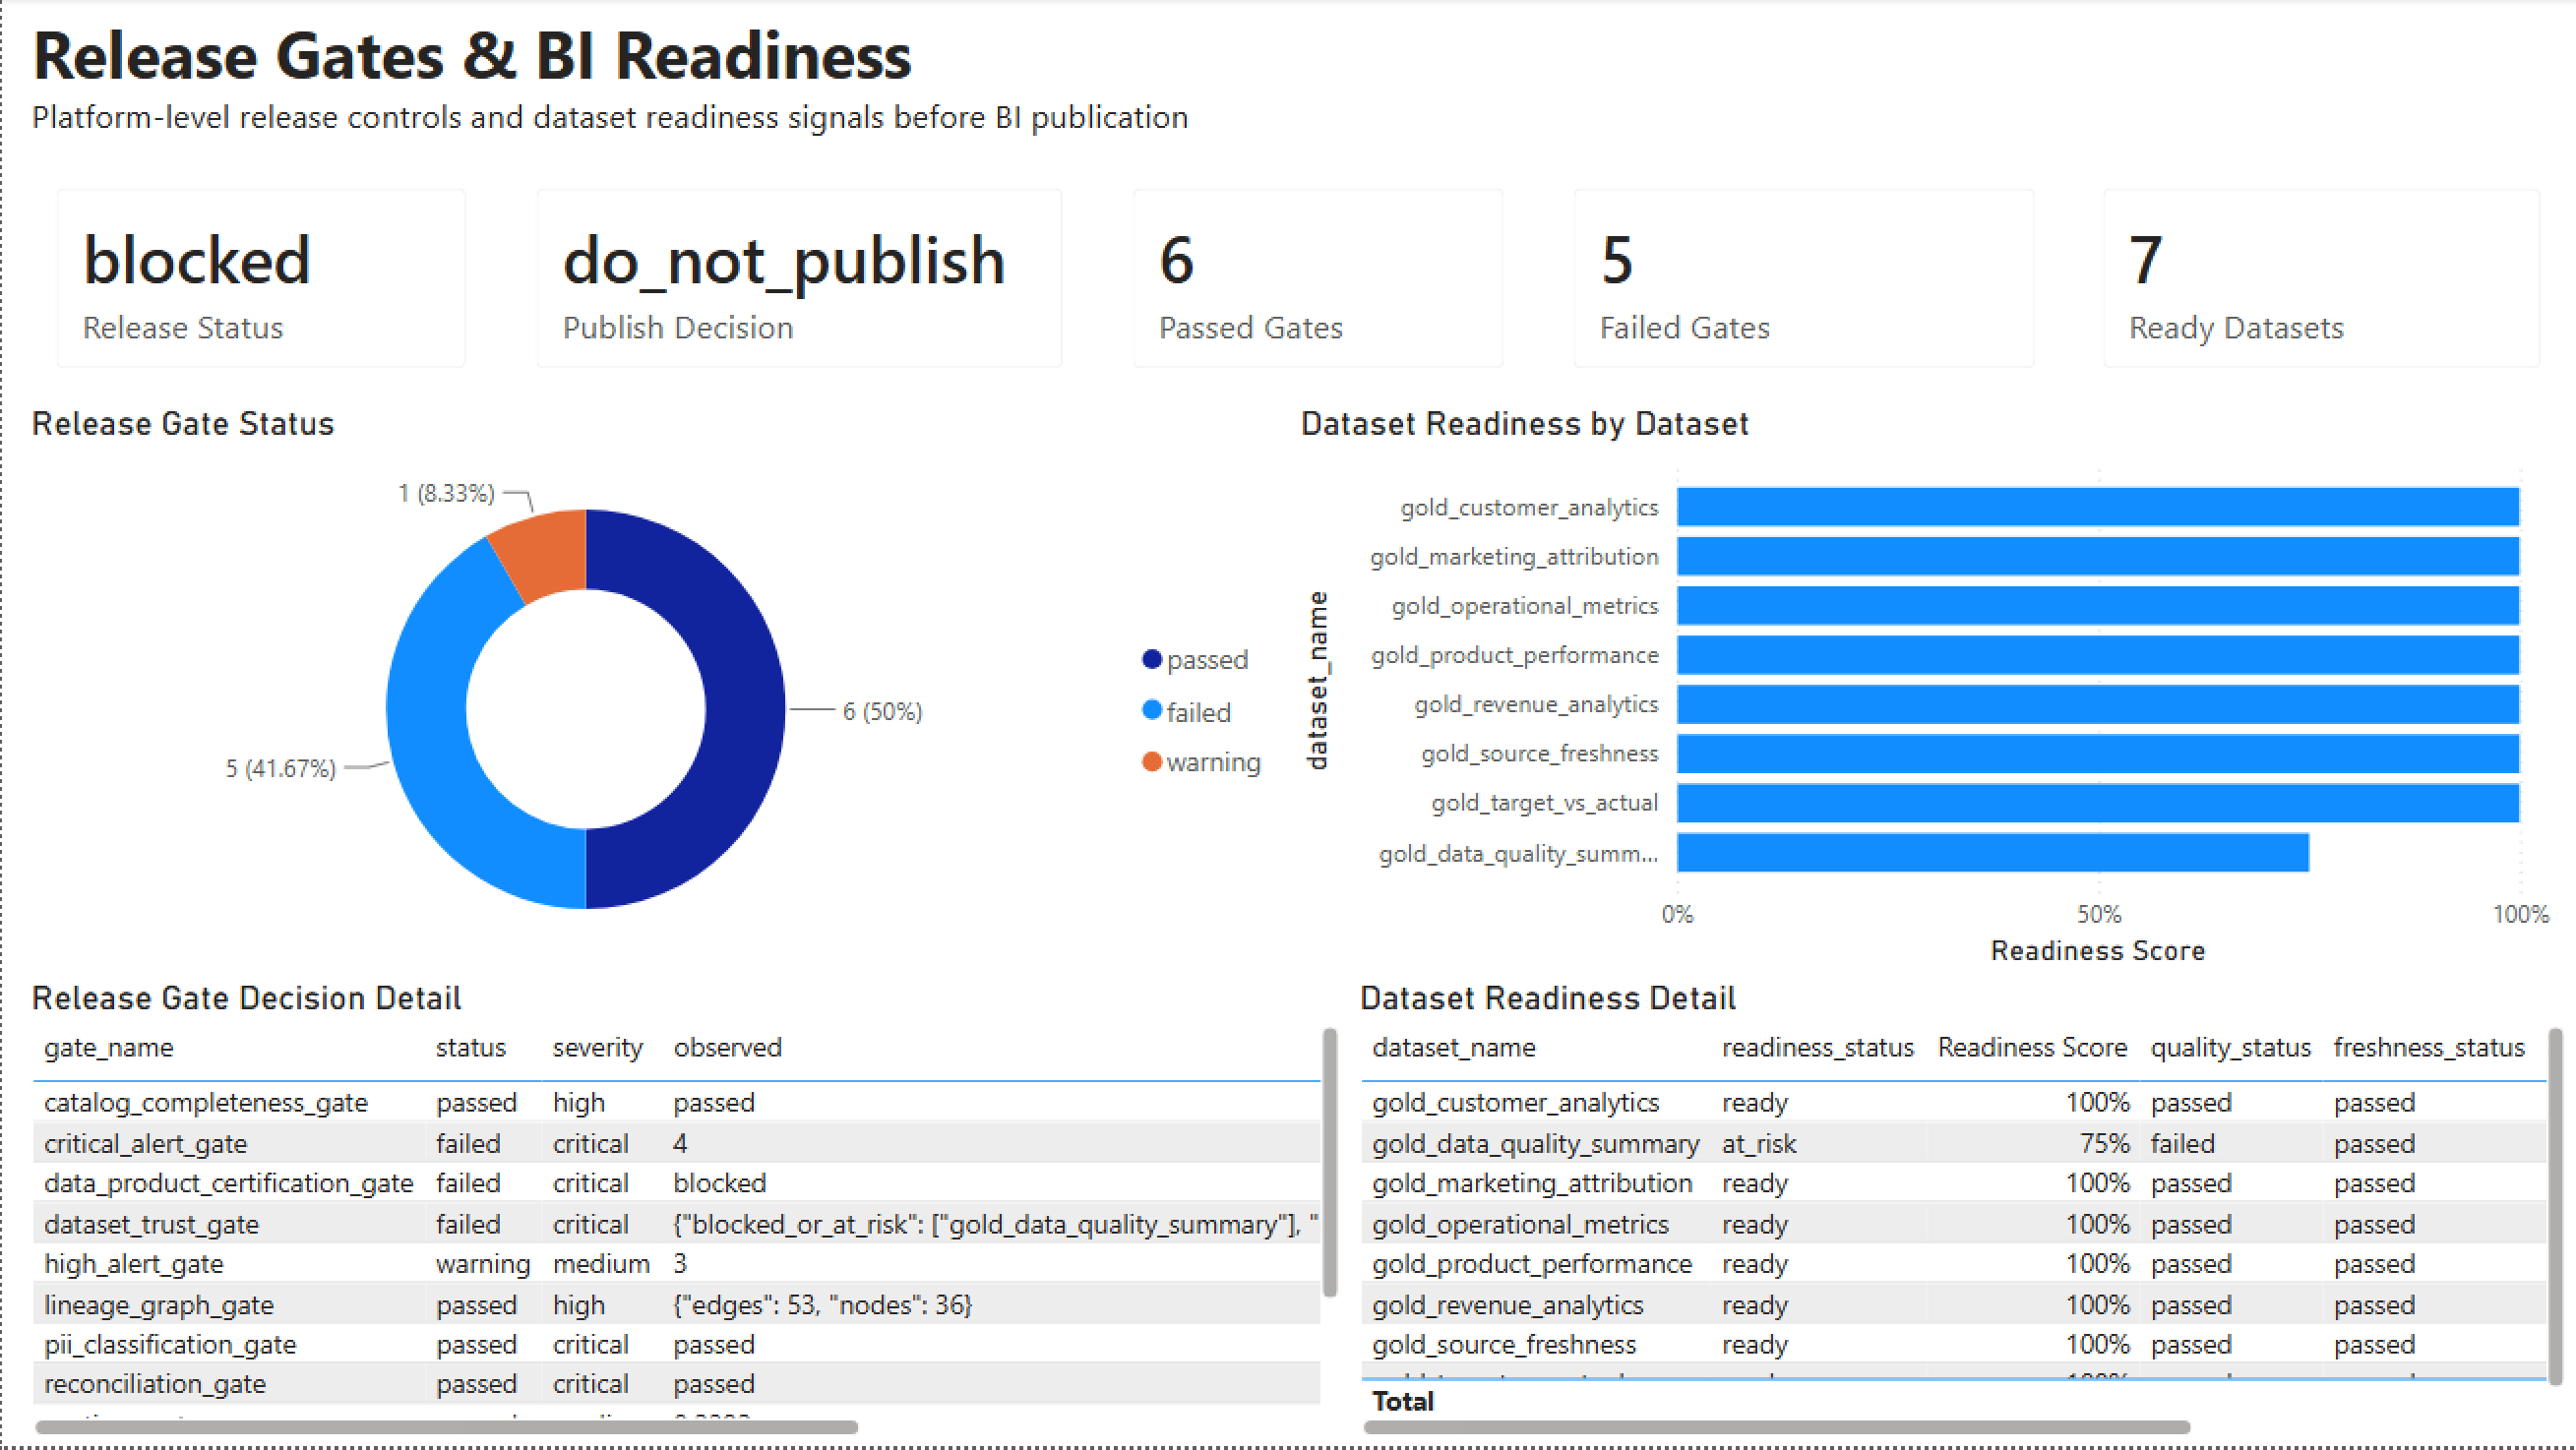

The dashboard page shown, as its layout file describes it:
{"tool":"powerbi","page":{"name":"Release Gates & BI Readiness","canvas":[1280,720],"ordinal":3},"visuals":[{"type":"textbox","box":[9.5,0,1270.5,77.4],"z":0},{"type":"cardVisual","fields":{"Data":["Min(release_gates.release_status)"]},"box":[9.5,77.4,238.6,124.1],"z":1000},{"type":"cardVisual","fields":{"Data":["Min(release_gates.publish_decision)"]},"box":[248.5,77.3,296.4,124.2],"z":2000},{"type":"cardVisual","fields":{"Data":["CountNonNull(release_gates.gate_name)"]},"box":[763.5,77.4,264.1,124.1],"z":3000},{"type":"cardVisual","fields":{"Data":["CountNonNull(release_gates.gate_name)"]},"box":[544.9,77.3,219.1,124.2],"z":4000},{"type":"cardVisual","fields":{"Data":["CountNonNull(dataset_readiness.dataset_name)"]},"box":[1027.6,77.4,252.4,124.1],"z":5000},{"type":"donutChart","title":"Release Gate Status","fields":{"Category":["release_gates.status"],"Y":["CountNonNull(release_gates.gate_name)"]},"box":[9.5,201.5,631,285.3],"z":6000},{"type":"clusteredBarChart","title":"Dataset Readiness by Dataset","fields":{"Category":["dataset_readiness.dataset_name"],"Y":["Avg(dataset_readiness.readiness_score)"]},"box":[640.5,201.5,631,285.3],"z":7000},{"type":"tableEx","title":"Release Gate Decision Detail","fields":{"Values":["release_gates.gate_name","release_gates.status","release_gates.severity","release_gates.observed","release_gates.expected"]},"box":[9.8,487.2,660.3,232.8],"z":8000},{"type":"tableEx","title":"Dataset Readiness Detail","fields":{"Values":["dataset_readiness.dataset_name","dataset_readiness.readiness_status","dataset_readiness.readiness_score","dataset_readiness.quality_status","dataset_readiness.freshness_status","dataset_readiness.schema_status","Sum(dataset_readiness.row_count)"]},"box":[670.1,487.2,609.5,232.8],"z":9000}]}

Visuals, with their boxes in screenshot pixels (x1, y1, x2, y2), scaled from the page's 1280x720 canvas onto the 2576x1450 screenshot:
textbox: box=[19, 0, 2575, 155]
cardVisual - Min(release_gates.release_status): box=[19, 155, 499, 406]
cardVisual - Min(release_gates.publish_decision): box=[500, 155, 1096, 406]
cardVisual - CountNonNull(release_gates.gate_name): box=[1537, 155, 2068, 406]
cardVisual - CountNonNull(release_gates.gate_name): box=[1096, 155, 1538, 406]
cardVisual - CountNonNull(dataset_readiness.dataset_name): box=[2068, 155, 2575, 406]
"Release Gate Status" donutChart: box=[19, 406, 1289, 981]
"Dataset Readiness by Dataset" clusteredBarChart: box=[1289, 406, 2559, 981]
"Release Gate Decision Detail" tableEx: box=[20, 981, 1349, 1449]
"Dataset Readiness Detail" tableEx: box=[1349, 981, 2575, 1449]
